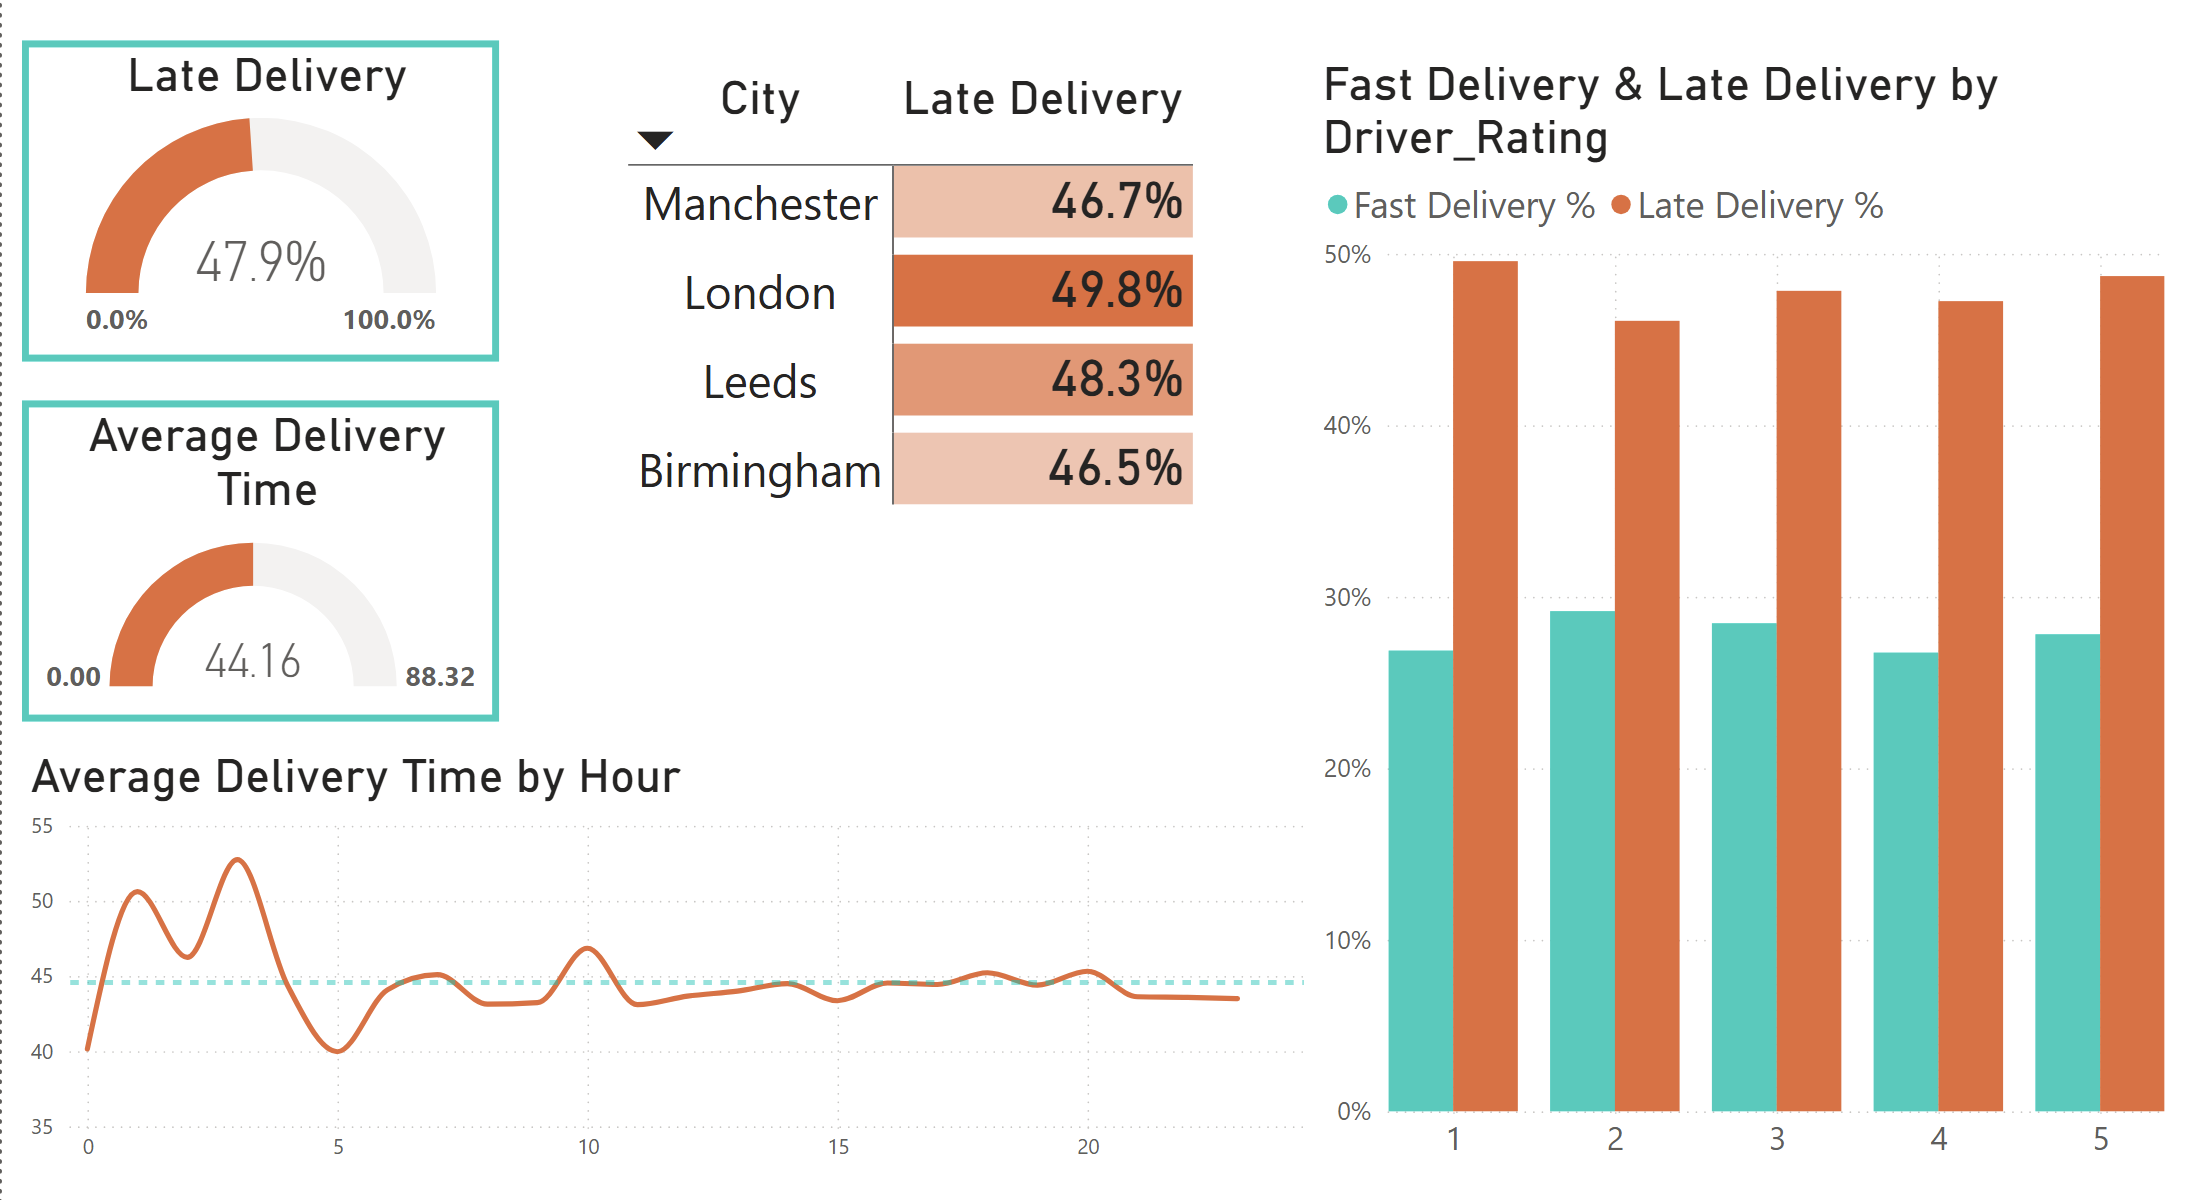

What the dashboard file says about the page in this screenshot:
{"tool":"powerbi","page":{"name":"Operation And Logistic","canvas":[1280,720],"ordinal":1},"visuals":[{"type":"gauge","fields":{"Y":["Avg(ORDERS.delivery_time_min)"]},"box":[12.3,252.6,278.9,187.7],"z":0},{"type":"pivotTable","fields":{"Values":["ORDERS.Late Delivery %"],"Rows":["Restaurent.city"]},"box":[357.9,42.1,363.2,349.1],"z":1000},{"type":"textbox","box":[450.9,0,12.3,15.8],"z":2000},{"type":"lineClusteredColumnComboChart","title":"Fast Delivery  & Late Delivery  by Driver_Rating","fields":{"Category":["ORDERS.driver_rating"],"Y":["ORDERS.Fast Delivery %","ORDERS.Late Delivery %"]},"box":[766.7,42.1,501.8,664.9],"z":3000},{"type":"lineChart","title":"Average Delivery Time by Hour","fields":{"Y":["Avg(ORDERS.delivery_time_min)"],"Category":["ORDERS.Order_Hour"]},"box":[12.3,456.1,754.4,250.9],"z":4000},{"type":"gauge","fields":{"Y":["ORDERS.Late Delivery %"]},"box":[12.3,42.1,278.9,187.7],"z":5000}]}

Visuals, with their boxes in screenshot pixels (x1, y1, x2, y2), scaled from the page's 1280x720 canvas onto the 2192x1200 screenshot:
gauge - Avg(ORDERS.delivery_time_min): (x1=21, y1=421, x2=499, y2=734)
pivotTable - ORDERS.Late Delivery % x Restaurent.city: (x1=613, y1=70, x2=1235, y2=652)
textbox: (x1=772, y1=0, x2=793, y2=26)
"Fast Delivery  & Late Delivery  by Driver_Rating" lineClusteredColumnComboChart: (x1=1313, y1=70, x2=2172, y2=1178)
"Average Delivery Time by Hour" lineChart: (x1=21, y1=760, x2=1313, y2=1178)
gauge - ORDERS.Late Delivery %: (x1=21, y1=70, x2=499, y2=383)
